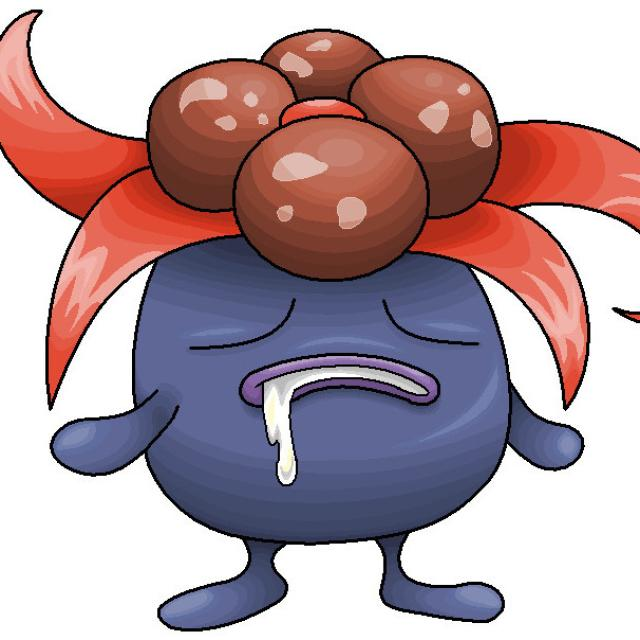Gloom: (114, 29, 540, 616)
